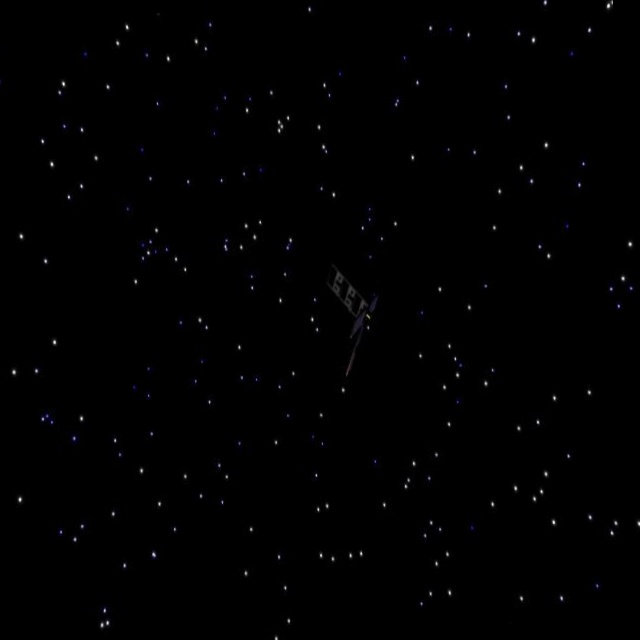medium_debris: (319, 251, 394, 387)
